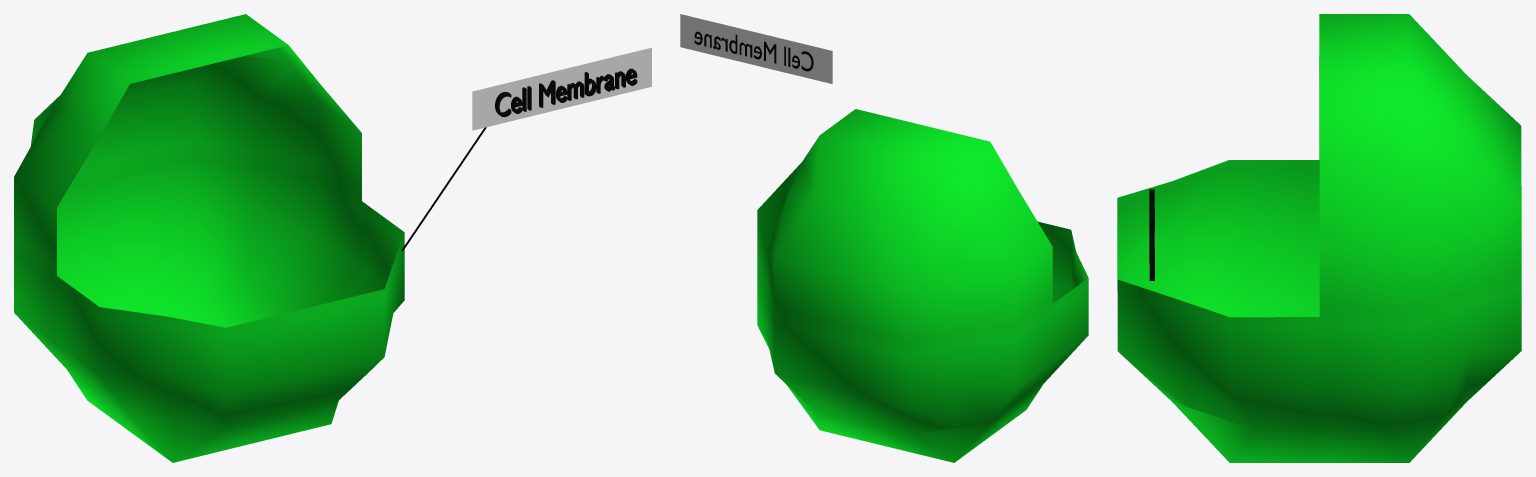
File: cellmembrane.gltf
3 renders of one model, left to right at view 1: azimuth 30°, elevation 25°; view 2: azimuth 150°, elevation 25°; view 3: azimuth 270°, elevation 25°, orthographic. The views are drawn at different scales.
Parts seen in each view (by area): view 1: Outside.001, Plane.002, Text.004; view 2: Outside.001, Plane.002, Text.004; view 3: Outside.001, Text.004.
Part boxes in pixels (<box>): Outside.001: <box>14,14,404,462</box>; Plane.002: <box>472,47,651,130</box>; Text.004: <box>495,68,637,117</box>; Outside.001: <box>757,109,1088,462</box>; Plane.002: <box>680,14,832,83</box>; Text.004: <box>694,31,813,71</box>; Outside.001: <box>1117,14,1521,462</box>; Text.004: <box>1149,189,1154,280</box>.
Bounding box in the file's own units: 4.23 × 2.72 × 2.71.
